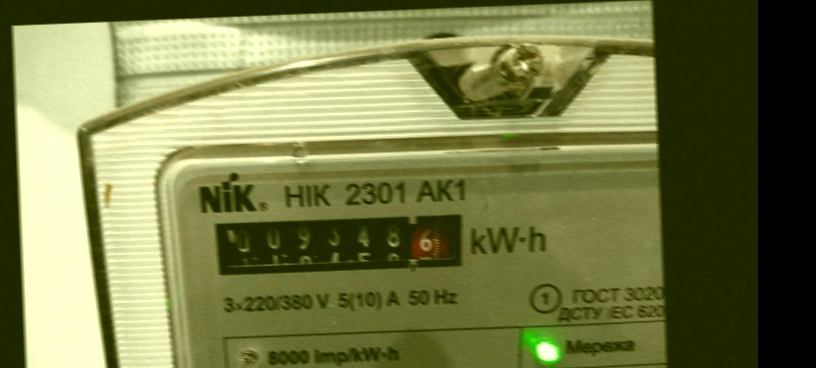0: (234, 228, 251, 255), (265, 224, 280, 251)
3: (326, 223, 341, 248)
4: (353, 219, 372, 250)
6: (416, 225, 434, 255)
8: (385, 221, 401, 250)
9: (296, 226, 311, 254)
screen: (196, 199, 477, 288)
